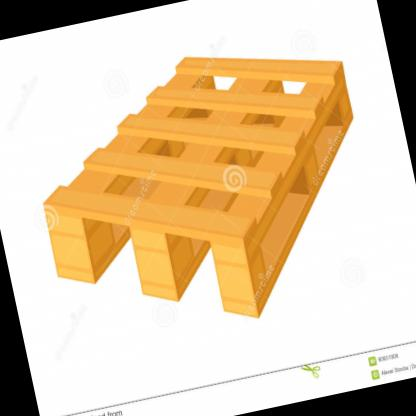BoxFace: (41, 56, 354, 321)
